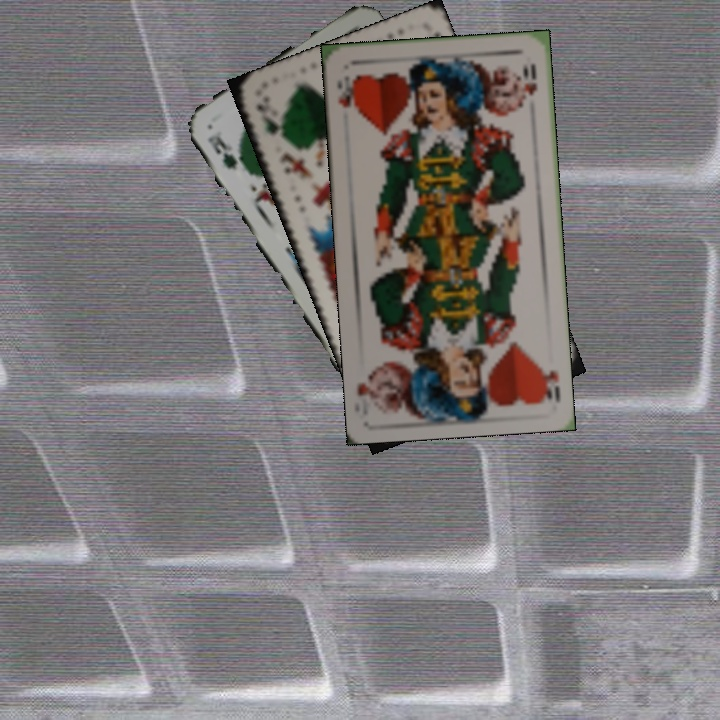GK: (203, 130, 249, 174), (252, 92, 288, 145)
HO: (535, 358, 563, 404), (333, 70, 359, 111)
